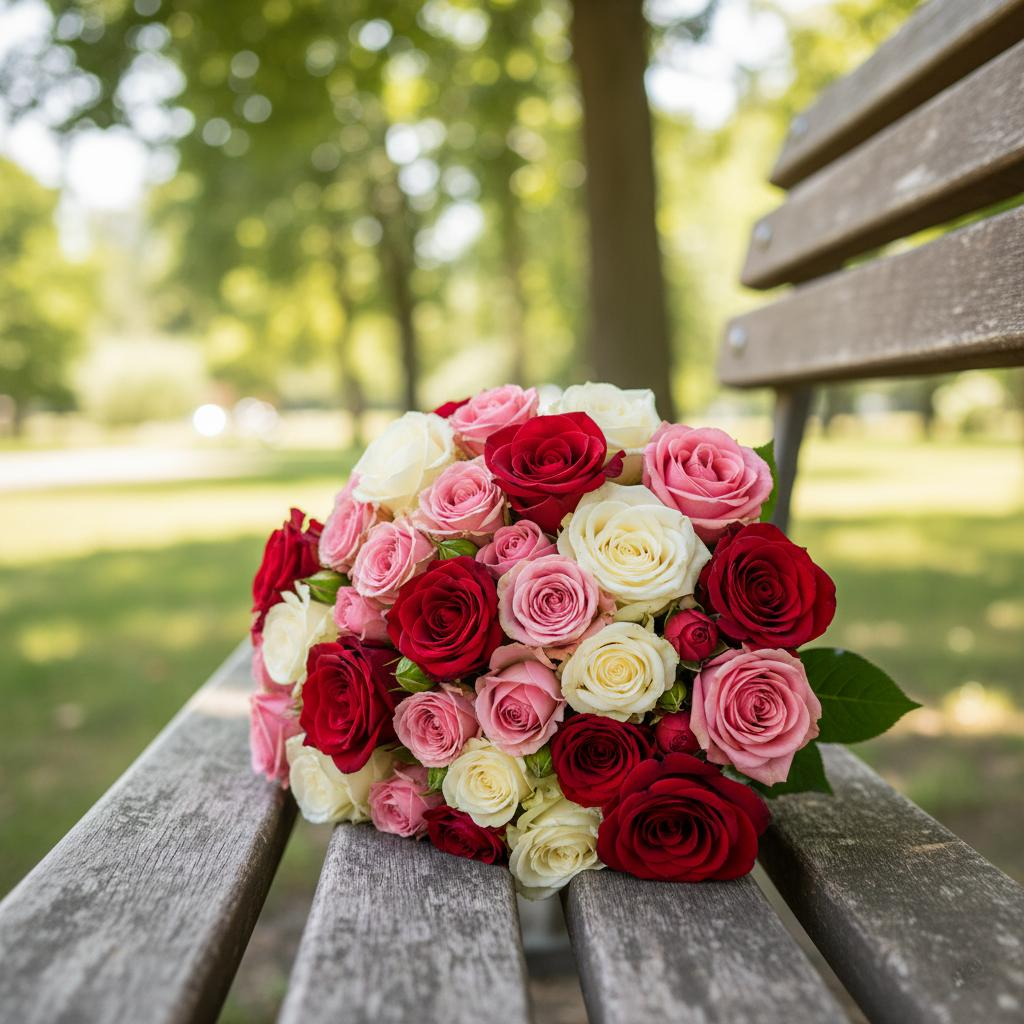rose: (247, 377, 838, 900)
